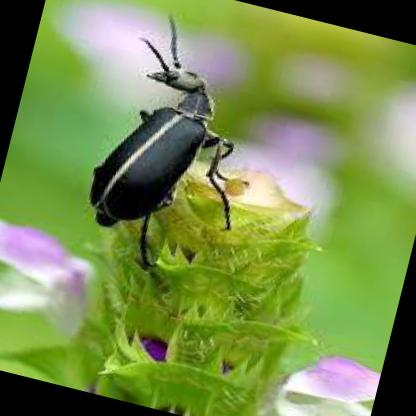blister beetle: (90, 13, 239, 229)
